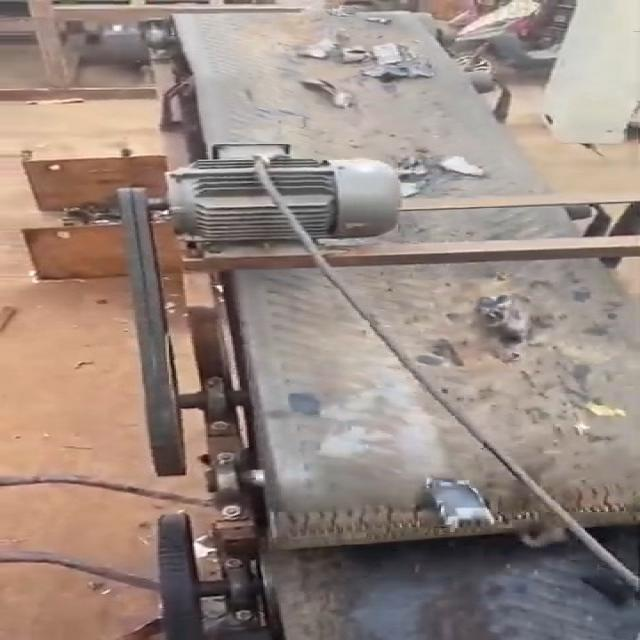Convoyeur: (151, 8, 640, 546)
